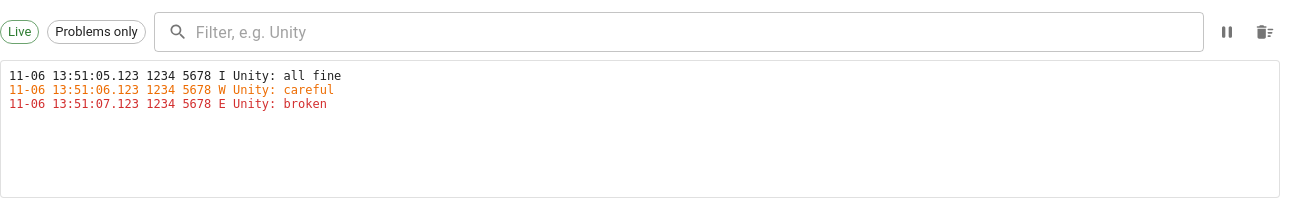
Test: DeviceLogStream controls › filters by text and to problems only
This screenshot has width=1292, height=215.
Type "careful" into the field named "Filter the log" at (700, 32), box [196, 12, 1204, 52]
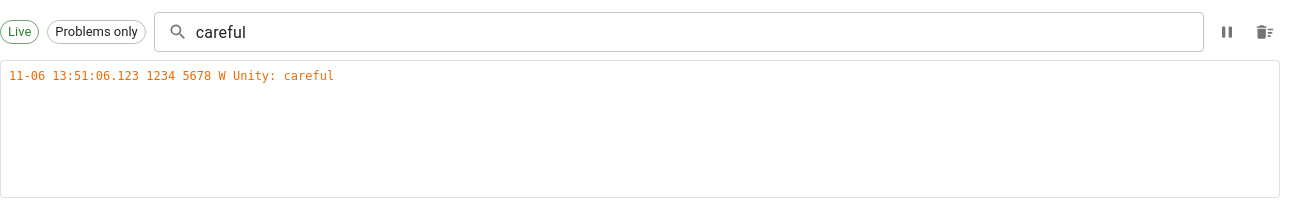
Now the text "11-06 13:51:05.123 1234 5678 I Unity: all fine" is gone
Now the text "11-06 13:51:06.123 1234 5678 W Unity: careful" is shown, box [9, 69, 334, 83]
Replace the text in the field named "Filter the log" with "nothing like it" at (700, 32), box [196, 12, 1204, 52]
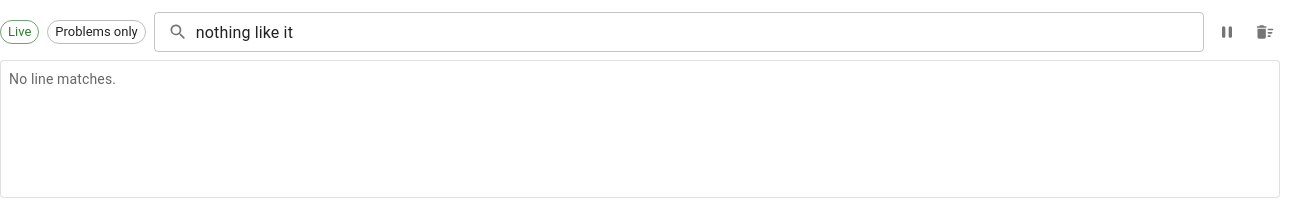
Now the text "No line matches." is shown, box [9, 71, 116, 87]
Clear the field named "Filter the log" at (700, 32), box [196, 12, 1204, 52]
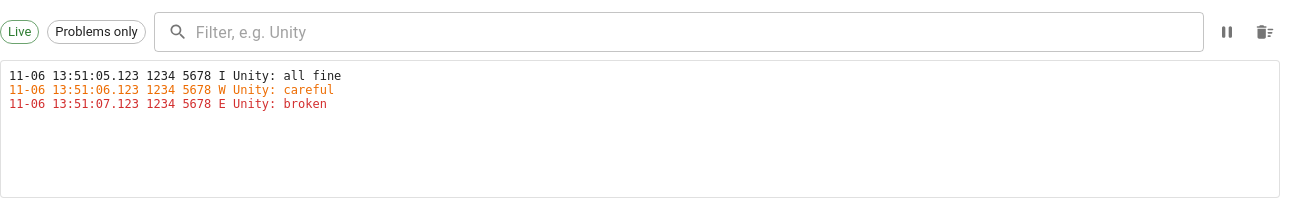
Click the button "Problems only" at (97, 32), box [47, 20, 146, 44]
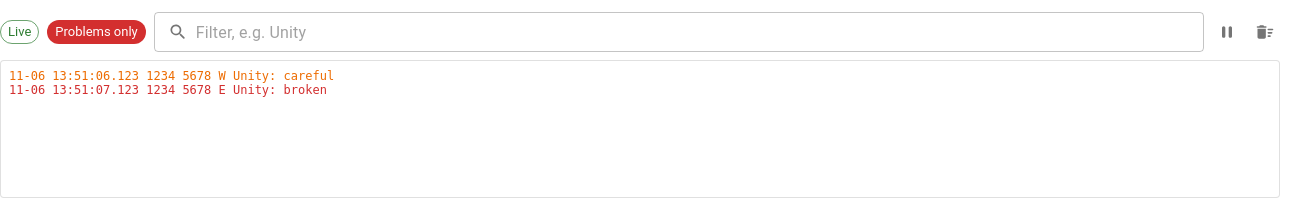
Now the text "11-06 13:51:05.123 1234 5678 I Unity: all fine" is gone
Now the text "11-06 13:51:07.123 1234 5678 E Unity: broken" is shown, box [9, 83, 327, 97]
